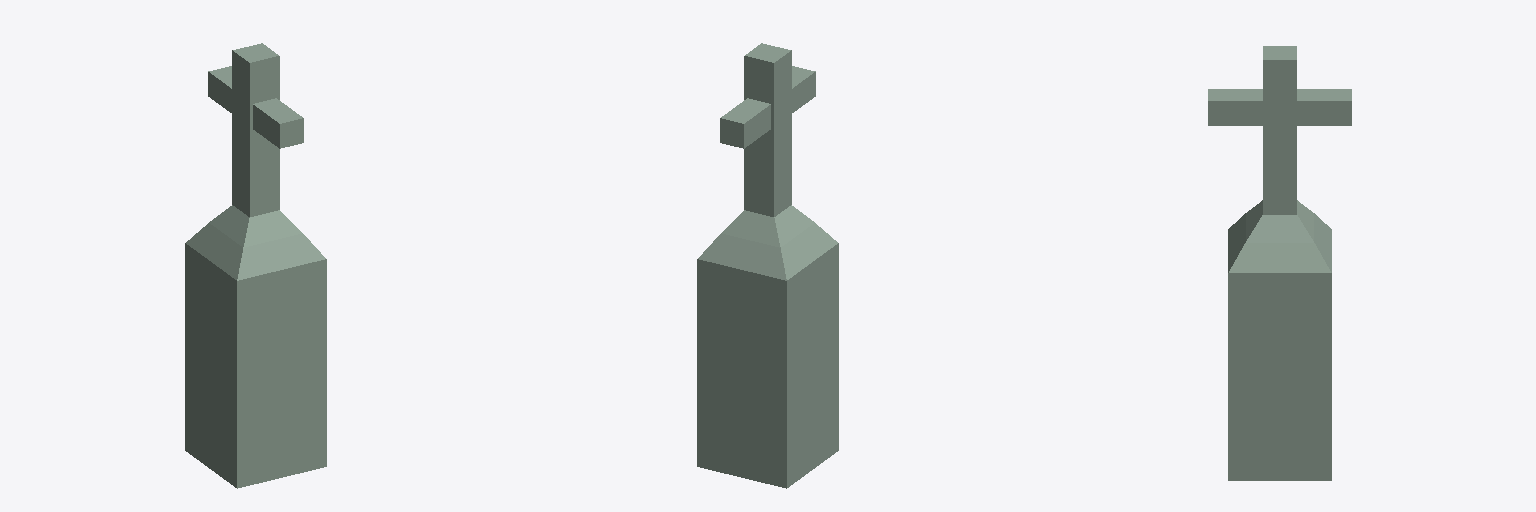
File: tomb_column.obj
The picture shows the model from 3 angles: view 1: azimuth 30°, elevation 25°; view 2: azimuth 150°, elevation 25°; view 3: azimuth 270°, elevation 25°; orthographic projection.
Visible parts, largest first — view 1: Cube.001_Cube.001; view 2: Cube.001_Cube.001; view 3: Cube.001_Cube.001.
Part boxes in pixels (x1,y1,x2,y2): Cube.001_Cube.001: (185, 43, 326, 488); Cube.001_Cube.001: (697, 43, 838, 488); Cube.001_Cube.001: (1208, 46, 1351, 480).
Bounding box in the file's own units: 6.71 × 29.1 × 9.3.